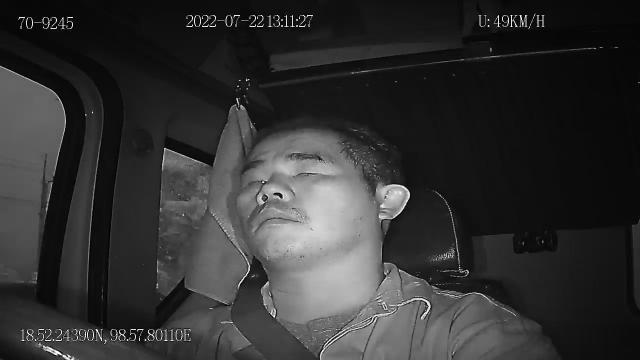Seatbelt: (229, 286, 321, 360)
